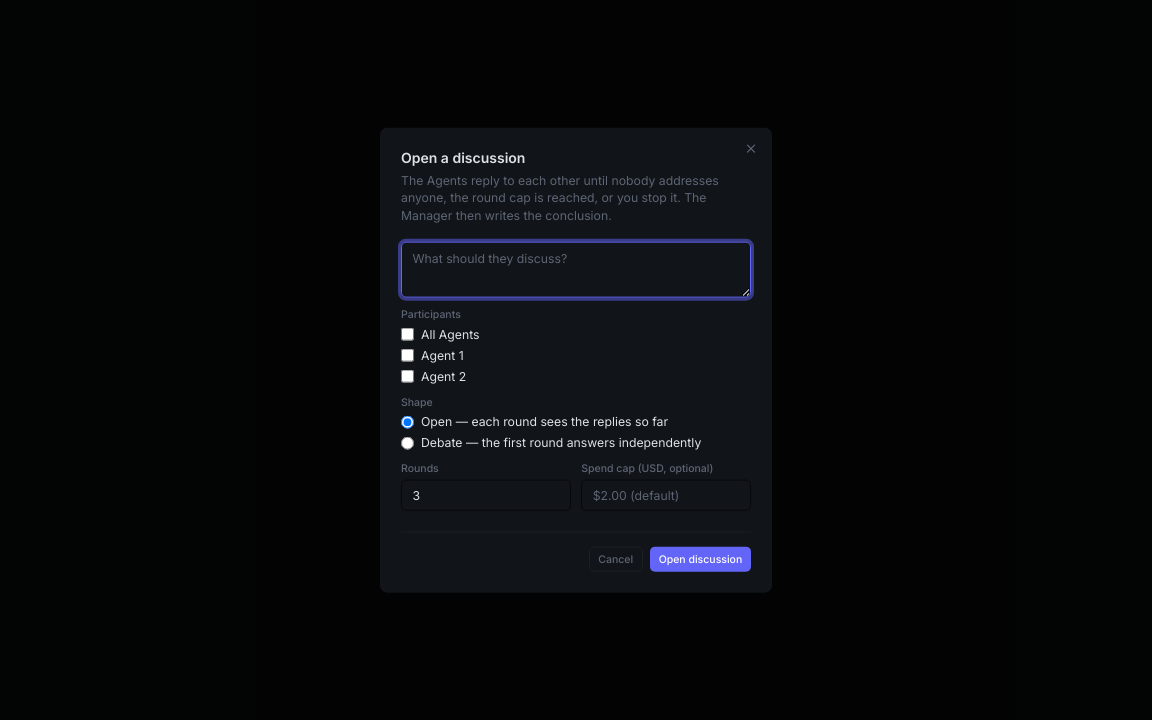
OpenDiscussionDialog › keeps the dialog open with the server's reason when opening is refused
The width and height of the screenshot is (1152, 720).
Type "Another topic" into the text box named "Topic" at (576,269), box [401, 241, 751, 297]
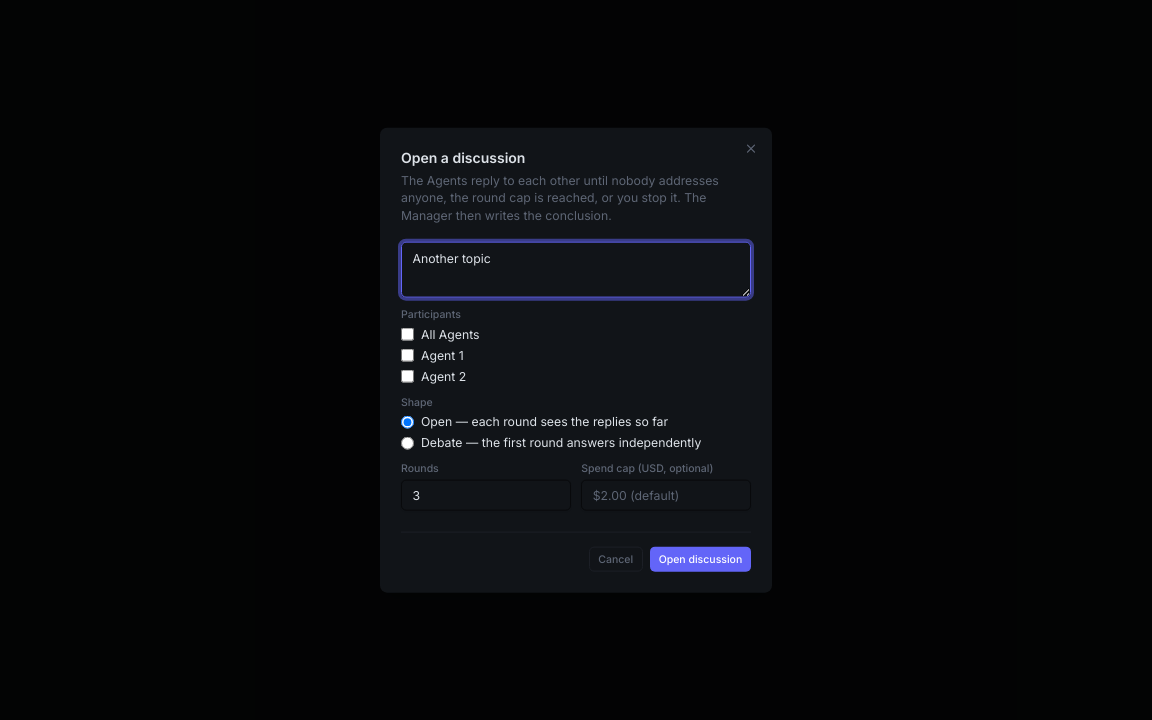
Click the checkbox labelled "Agent 1" at (408,355), box [401, 349, 414, 362]
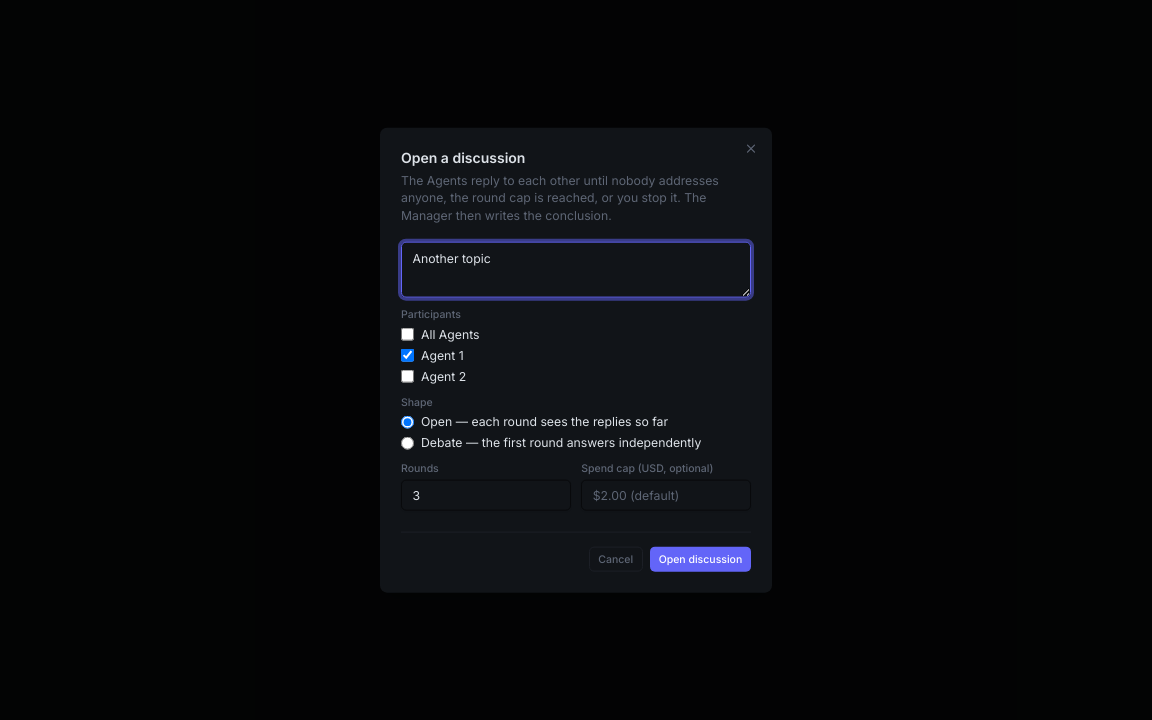
Click the button "Open discussion" at (700,559), box [650, 547, 751, 571]
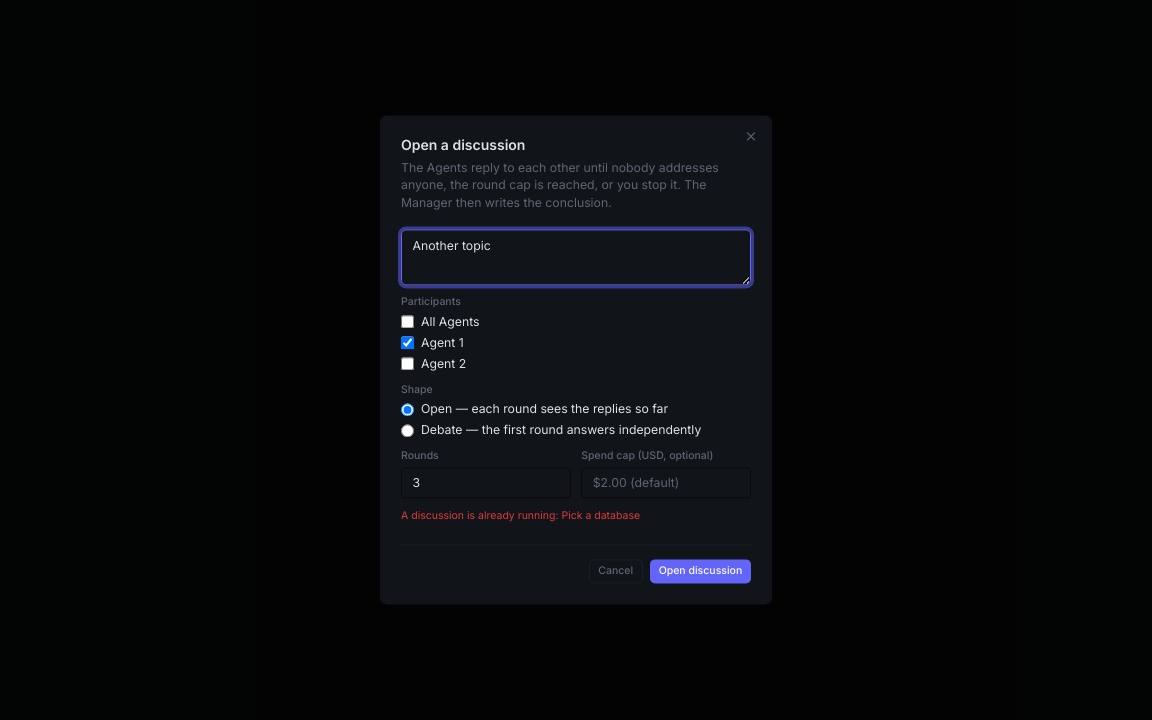
Result: the message reads "A discussion is already running: Pick a database" at [401, 509, 640, 522]
